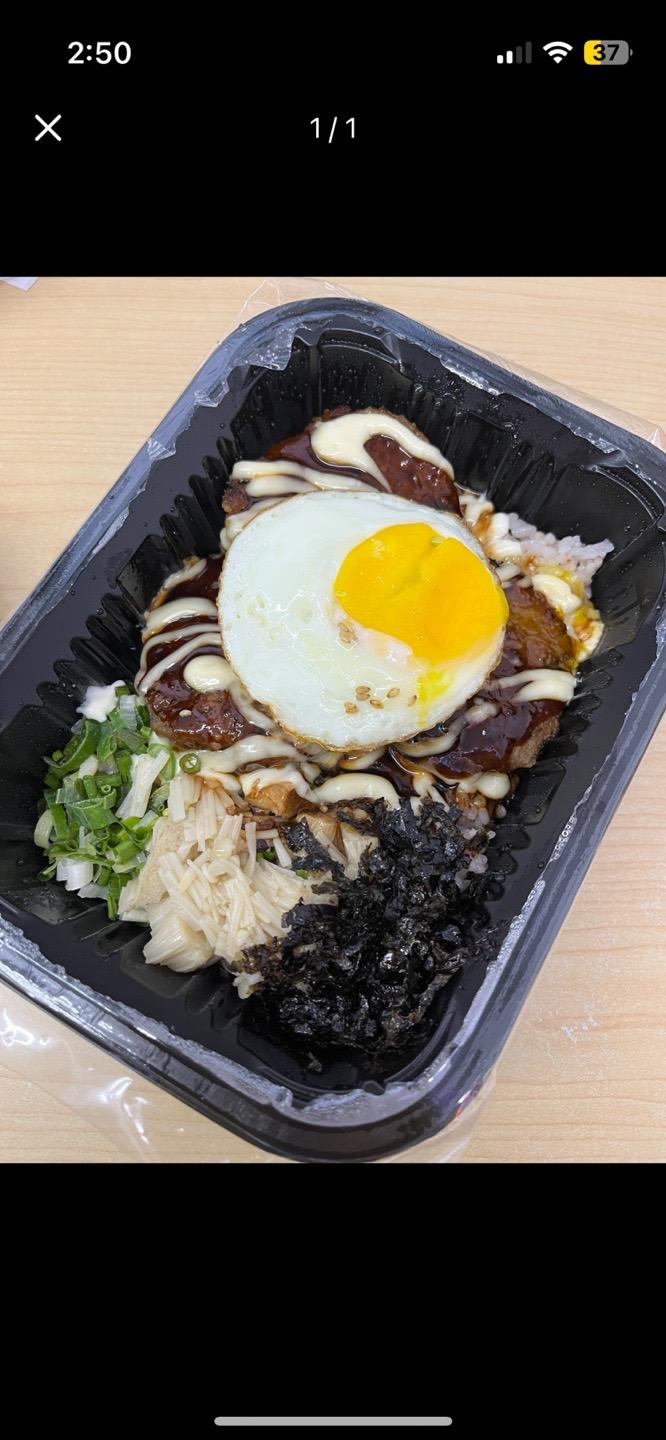Lunch Box: (0, 299, 665, 1161)
